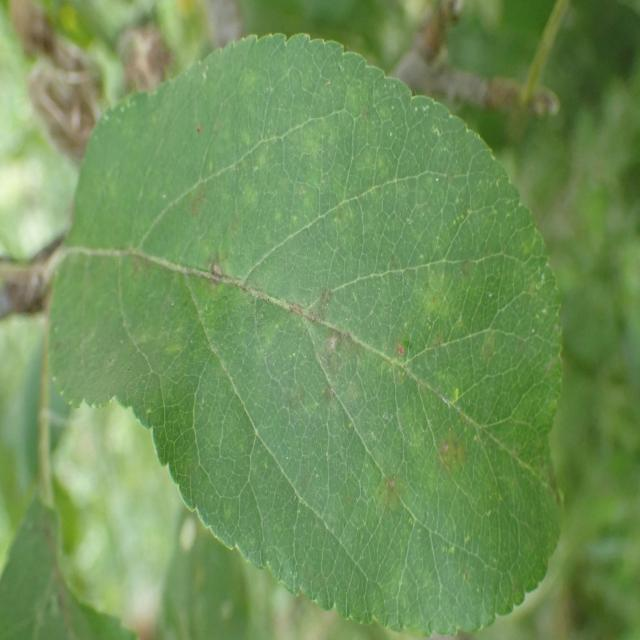scab: (79, 158, 561, 590)
